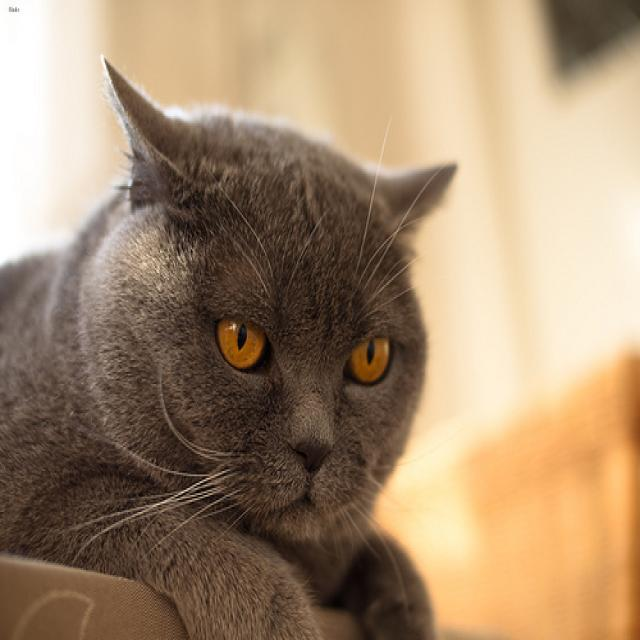British_Shorthair: (92, 52, 465, 543)
